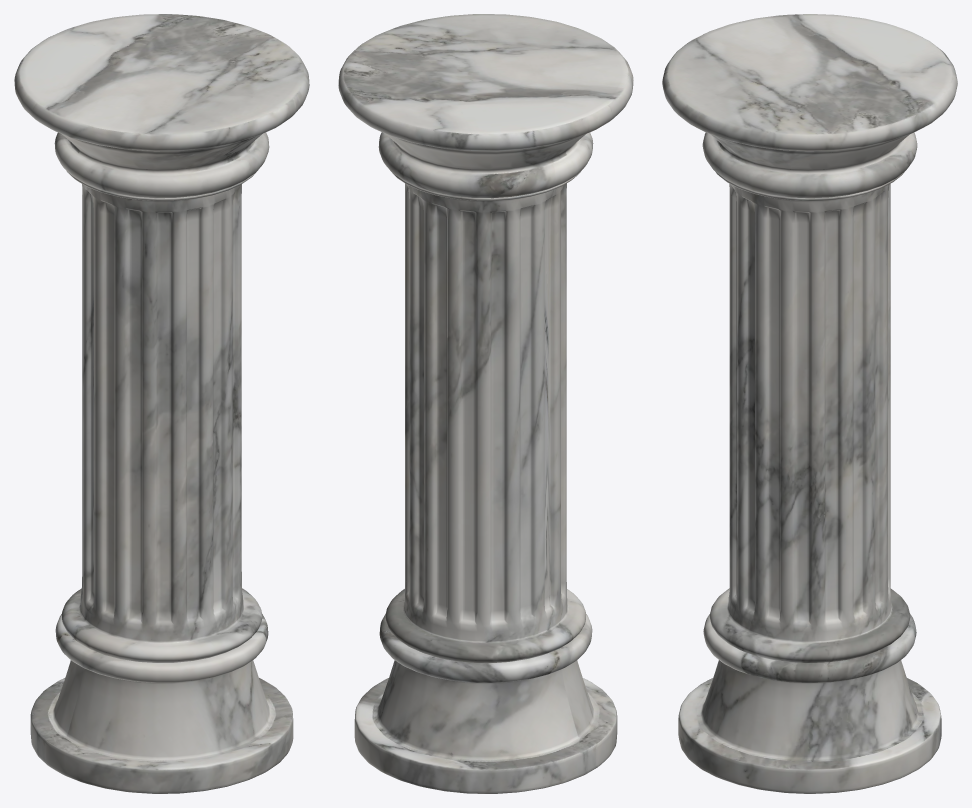
Rendered from column.glb.
3 renders of one model, left to right at view 1: azimuth 30°, elevation 25°; view 2: azimuth 150°, elevation 25°; view 3: azimuth 270°, elevation 25°, orthographic.
Visible parts, largest first — view 1: Column; view 2: Column; view 3: Column.
Boxes of the visible parts, left/top/right/bottom form: Column: left=14, top=14, right=309, bottom=793; Column: left=338, top=14, right=633, bottom=793; Column: left=662, top=14, right=957, bottom=793.
Bounding box in the file's own units: 0.4826 × 1.2 × 0.483.
Materials: 1 (1 with a texture image).
